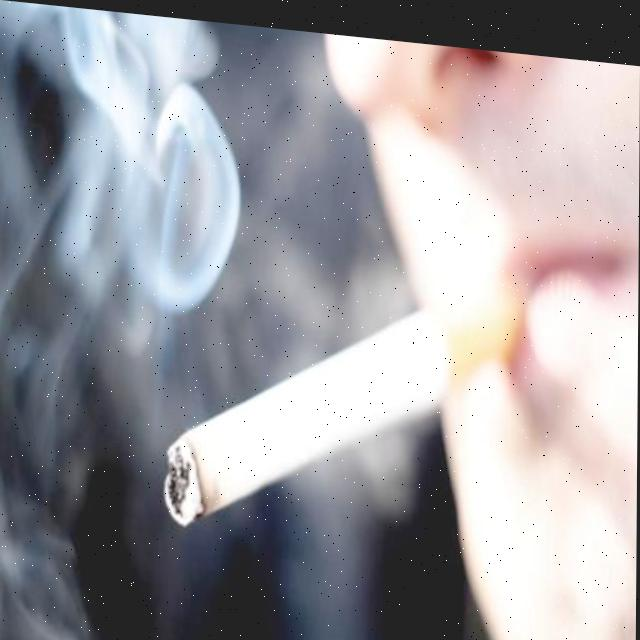cigarette: (164, 254, 526, 559)
